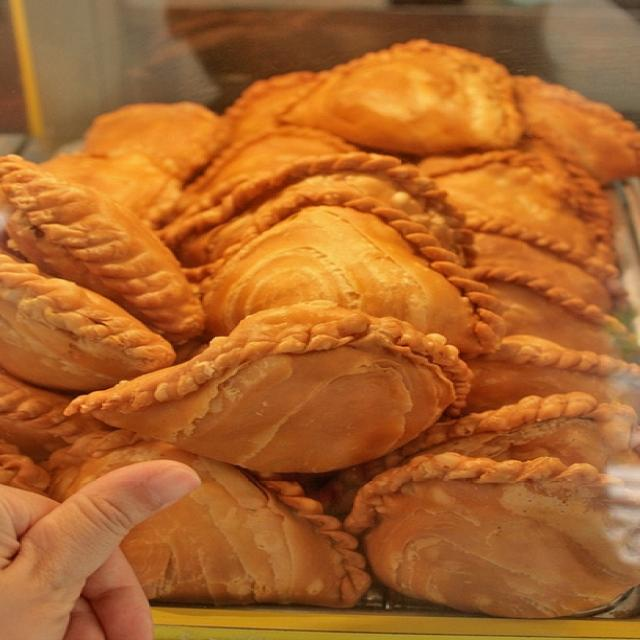炸货点心: (16, 34, 613, 604)
